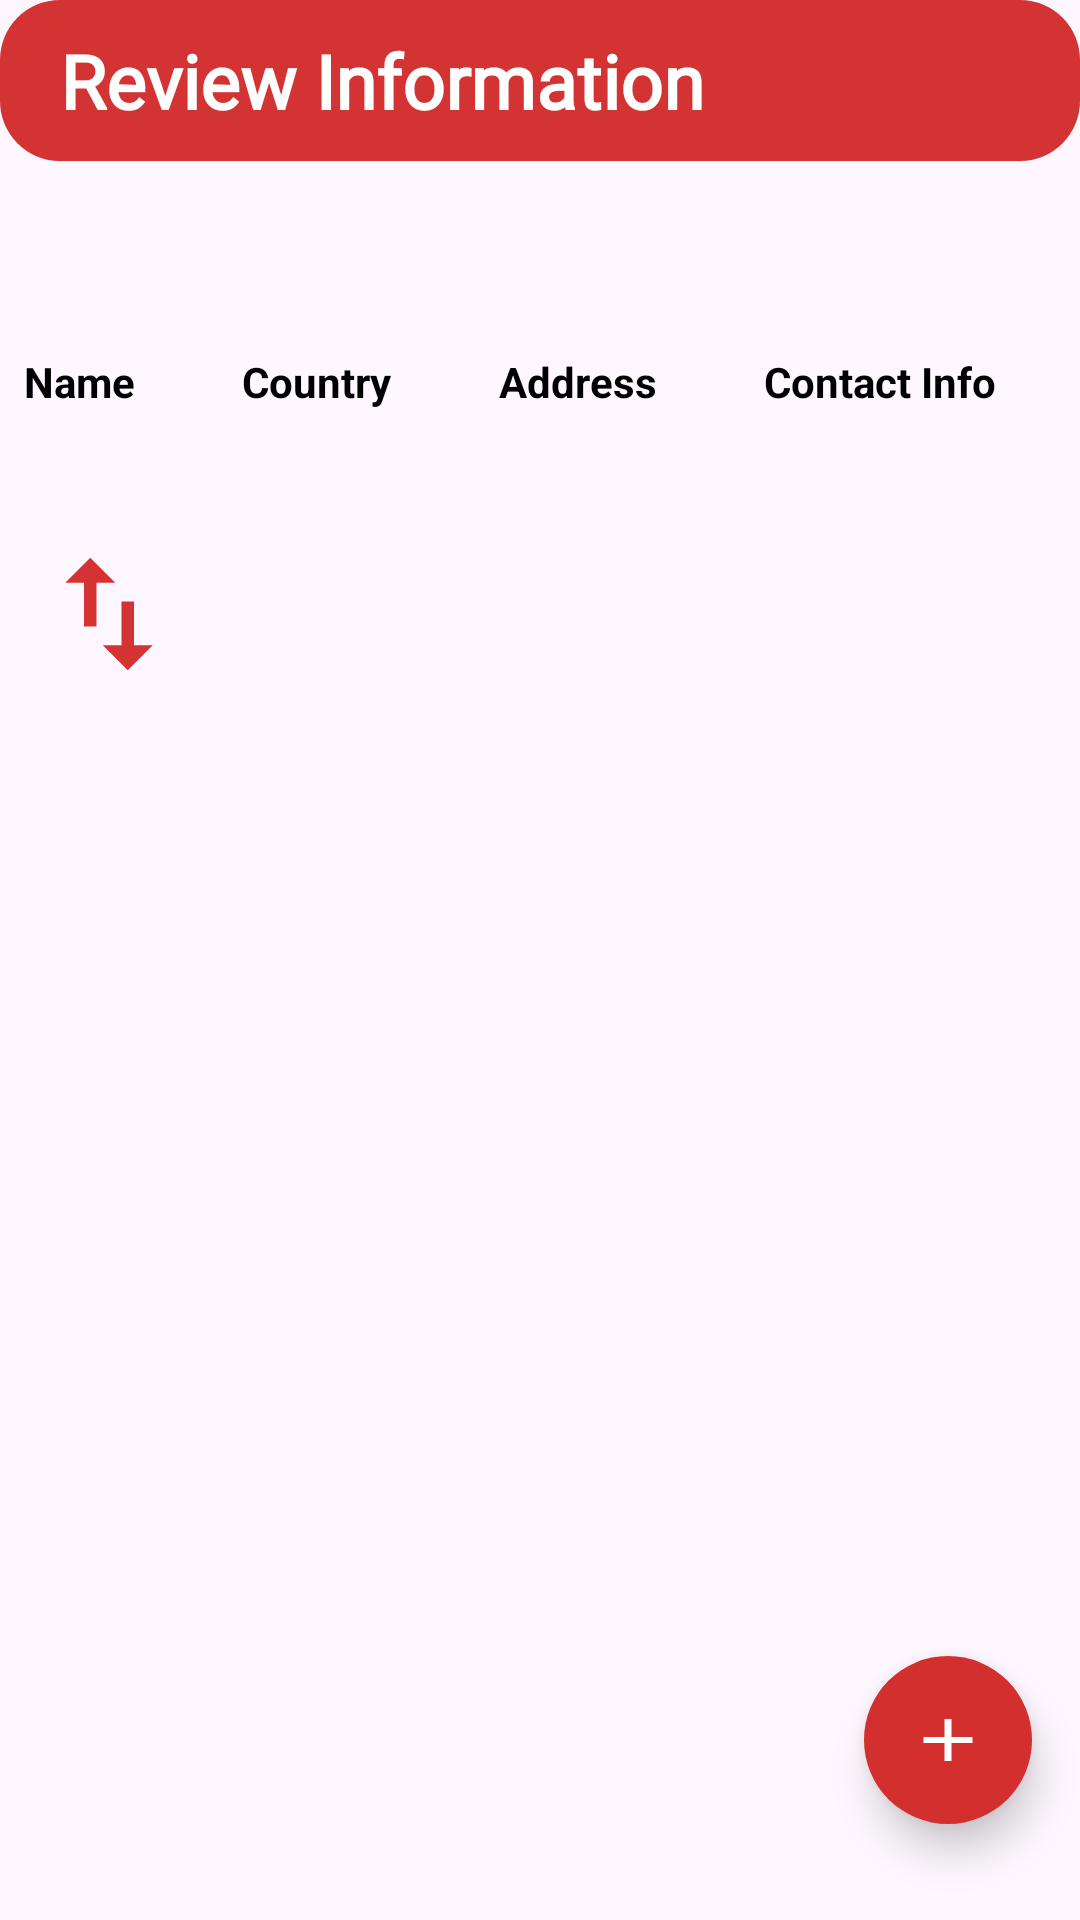

Screen size 1080px×1920px. Icon name, then its box in pixels as detection(x1, y1, x2, y2):
Add: detection(864, 1656, 1032, 1824)
swap vert: detection(65, 558, 153, 670)
